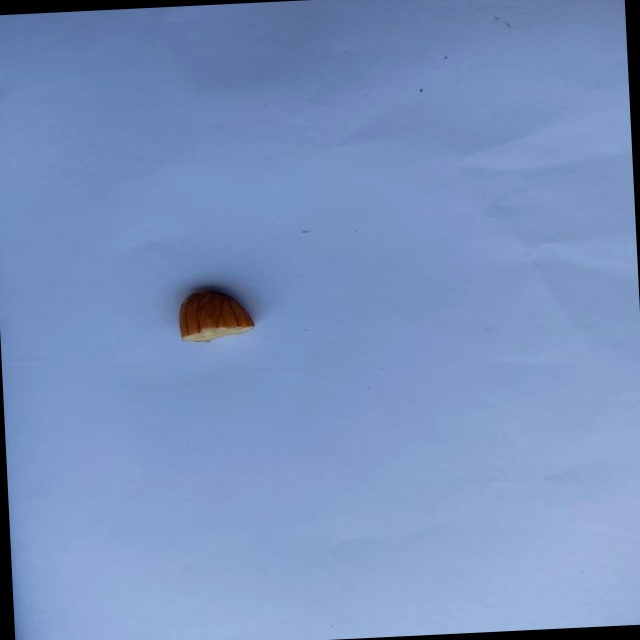grade4: (170, 281, 264, 348)
